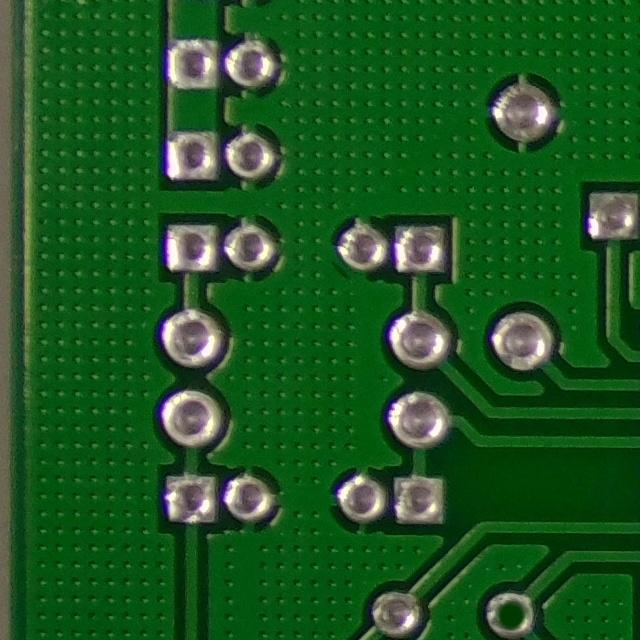missing_hole: (482, 578, 539, 640)
